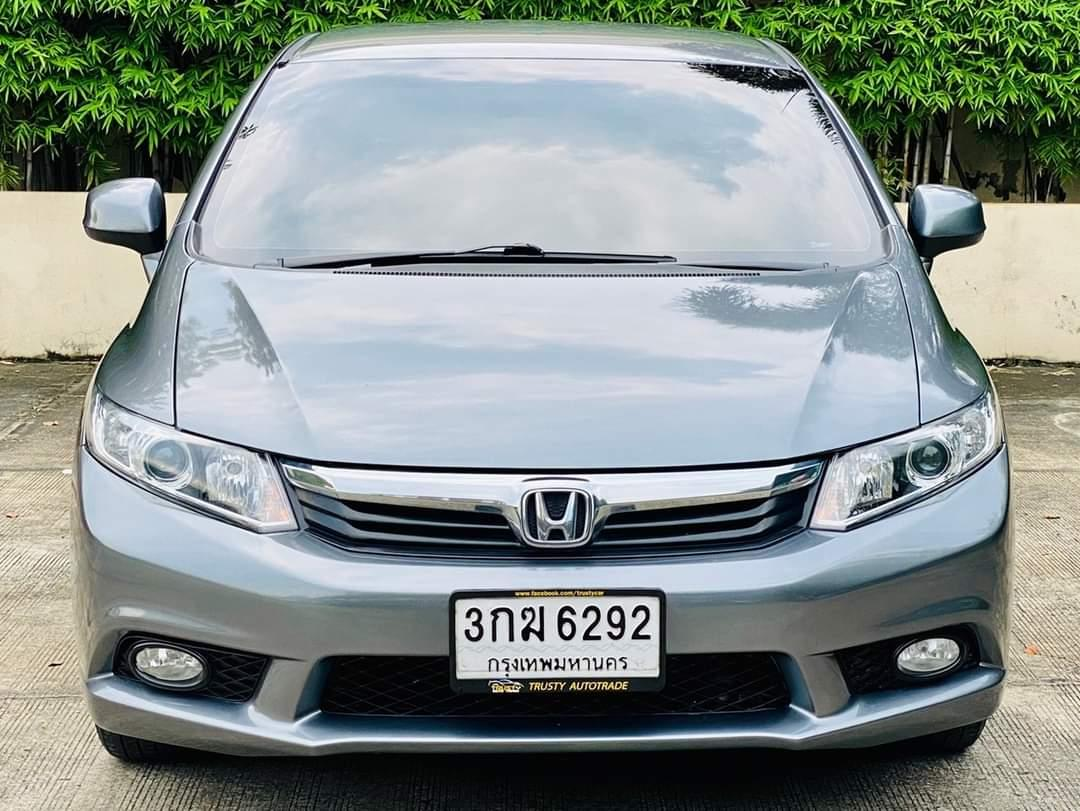license-plate: (448, 586, 665, 700)
